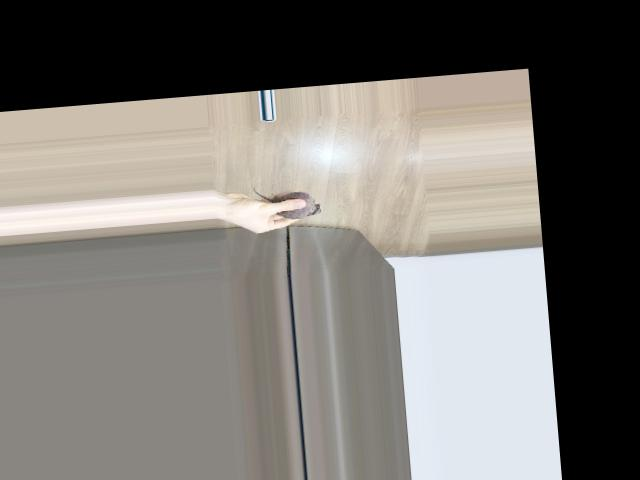beet: (254, 181, 322, 222)
